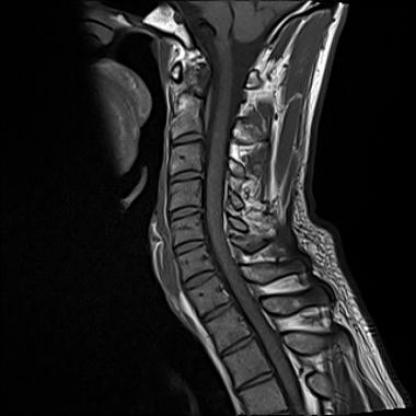Disc Protrusionrotation: (167, 167, 205, 186), (200, 304, 237, 321)
Osteophytesrotation: (167, 167, 205, 186)
